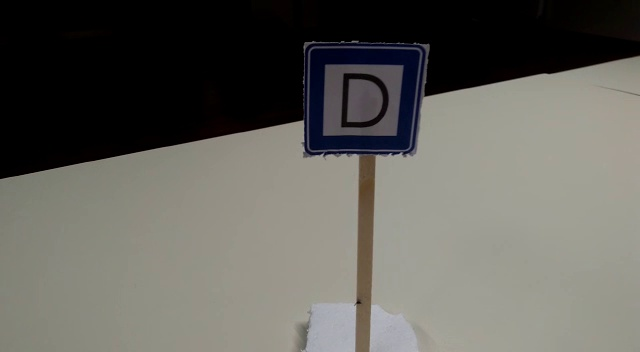durak: (303, 42, 425, 159)
